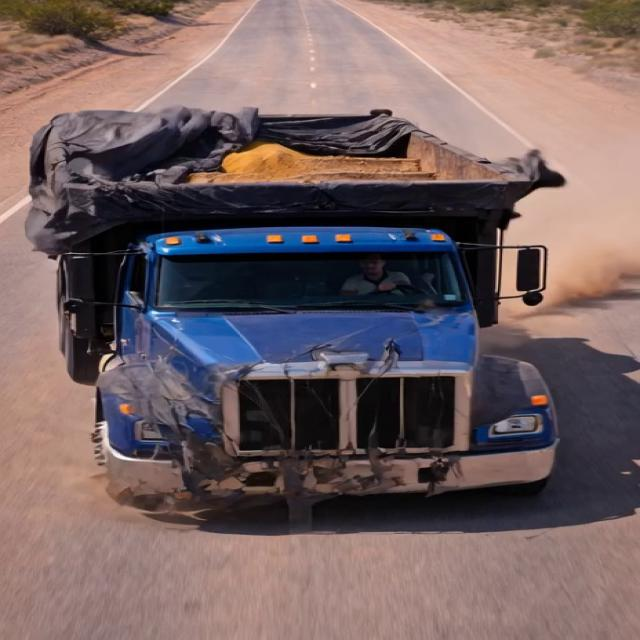trailer: (16, 106, 570, 215)
truck: (6, 39, 583, 501)
